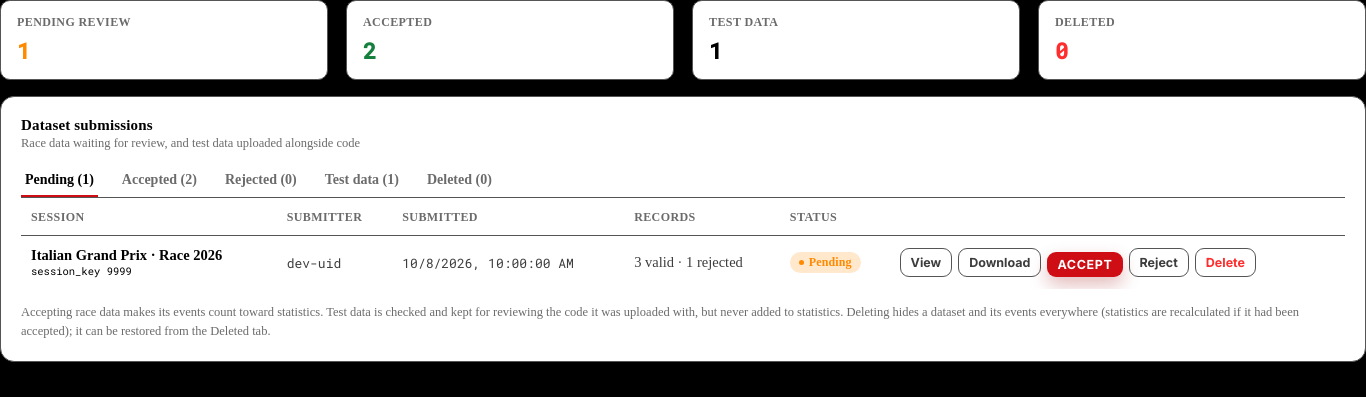
Test: DatasetSubmissionsPanel › accepting race data reviews it and reloads the queue
Click the button "Accept".
click(1085, 264)  # box [1047,252,1122,277]
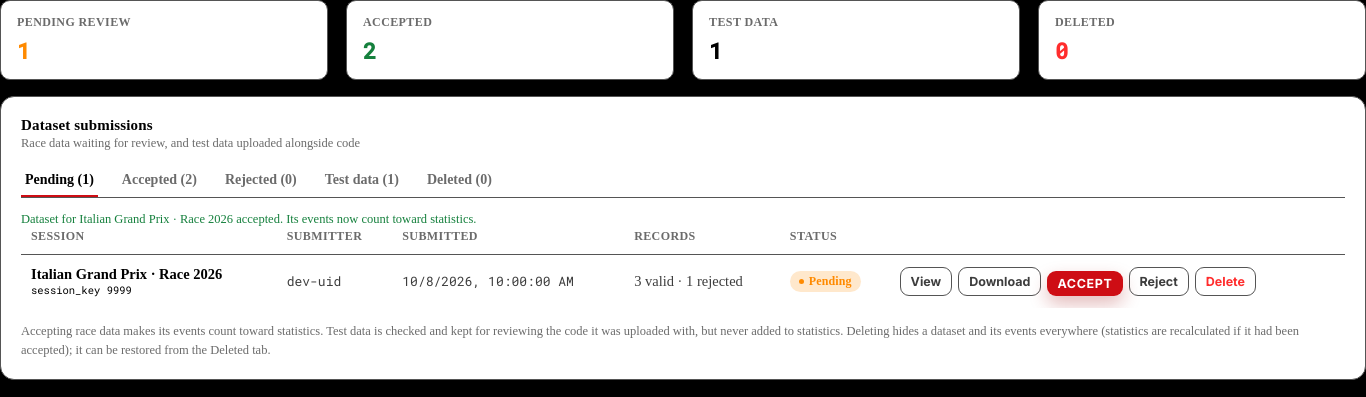
Expected: the message shows "accepted. Its events now count toward statistics.", [21,212,476,226]
